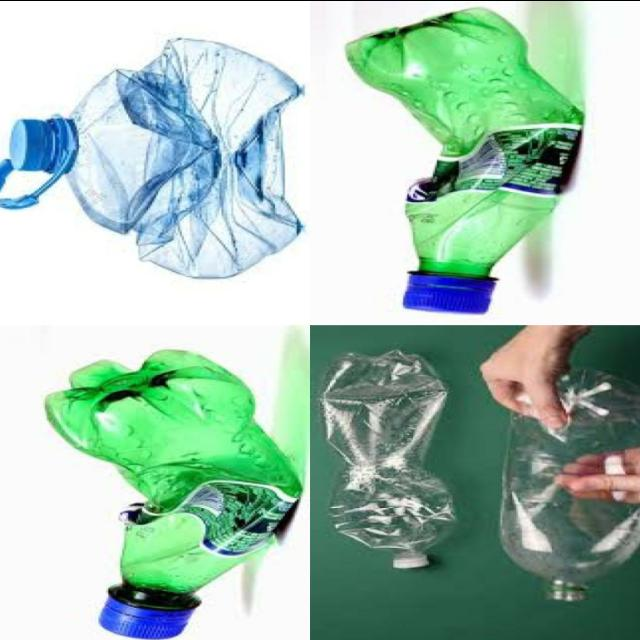plastik: (45, 349, 301, 638), (0, 37, 301, 277), (346, 9, 582, 312), (500, 368, 640, 602), (320, 349, 456, 566)
